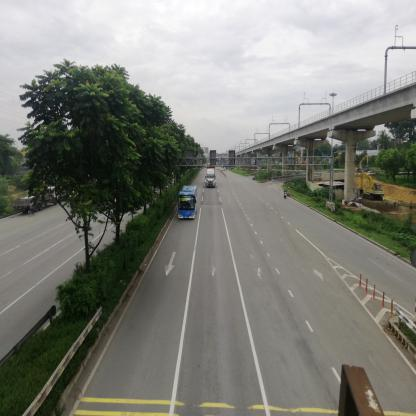bus: (179, 187, 199, 219)
container: (208, 171, 216, 188)
motorbike: (289, 188, 291, 198), (285, 192, 287, 198)
